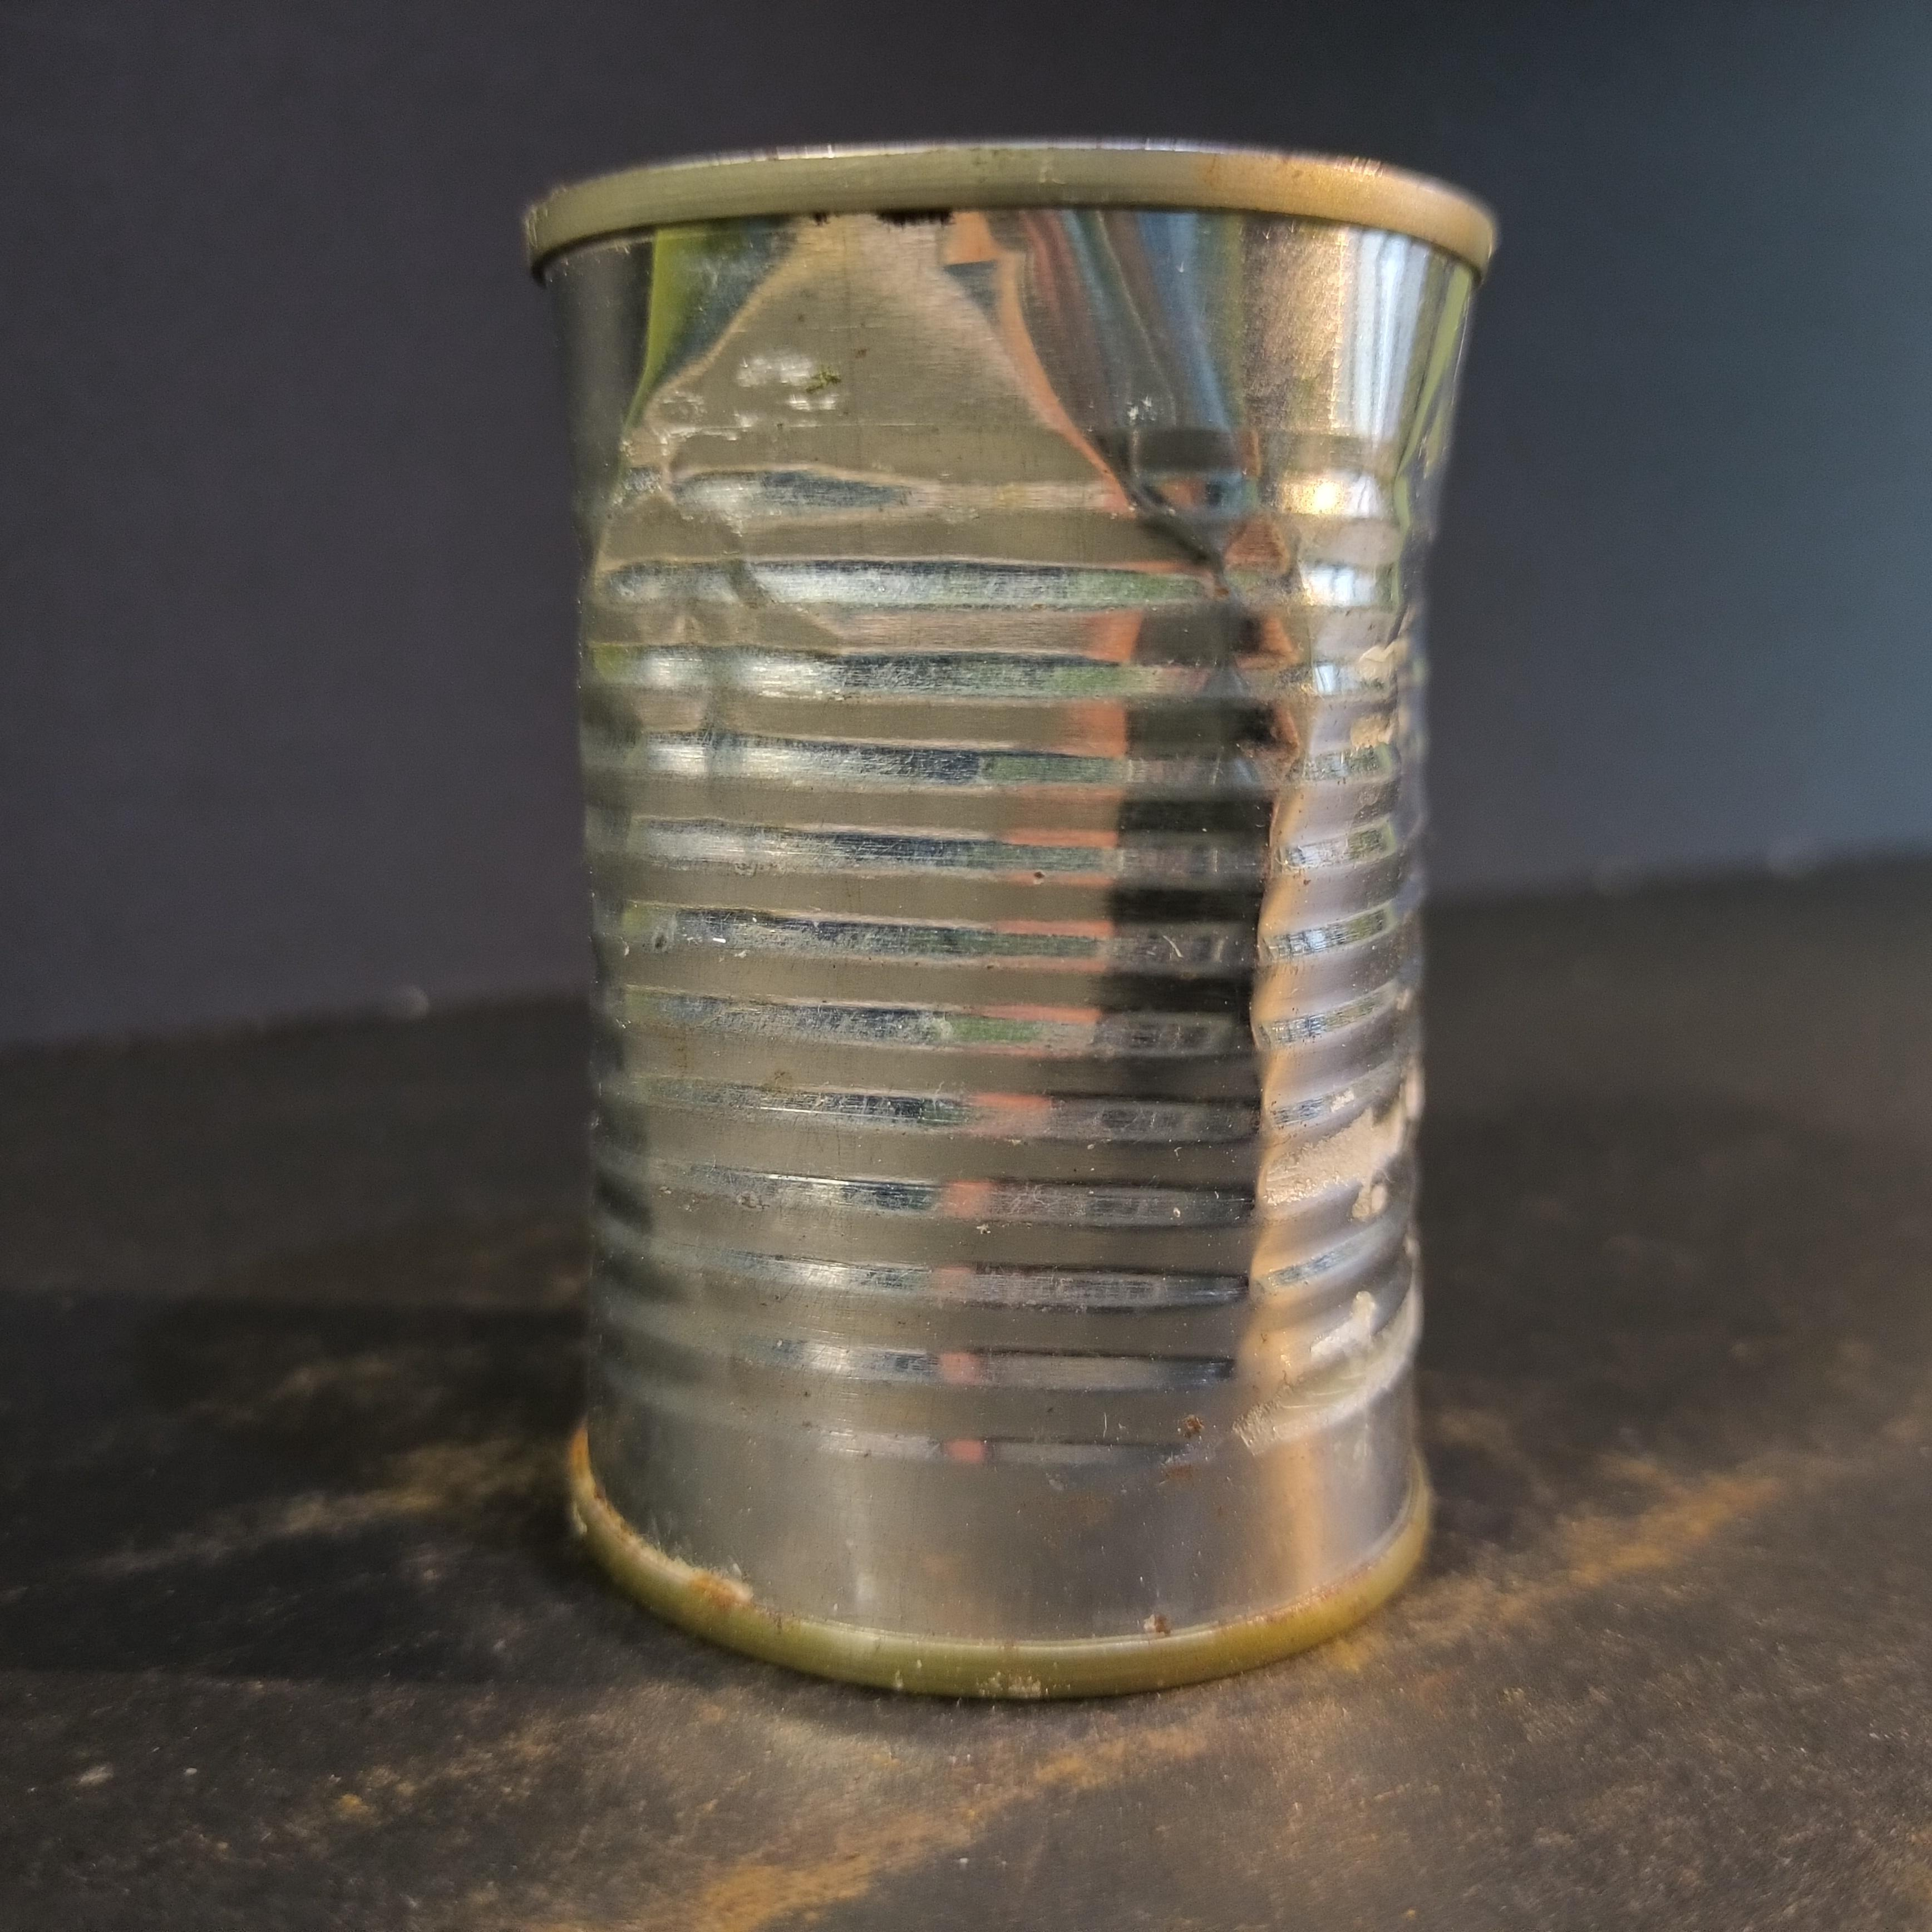Dented: (465, 125, 1539, 1742)
